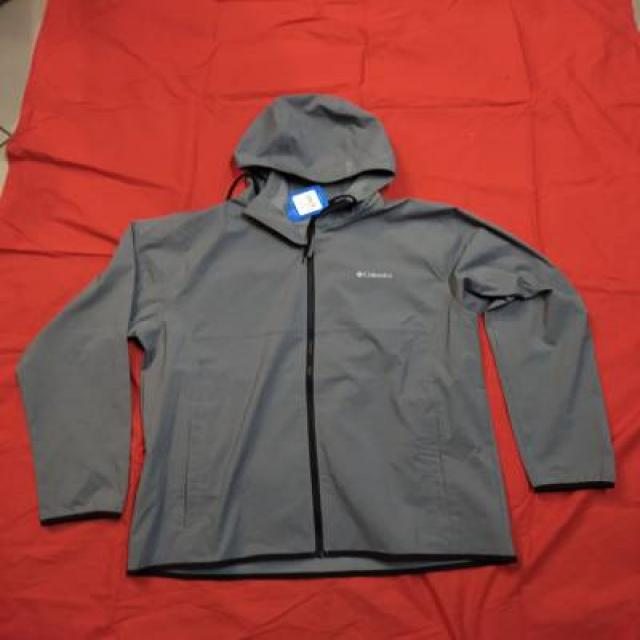Clothes -Biodegradable-: (15, 85, 615, 578)
